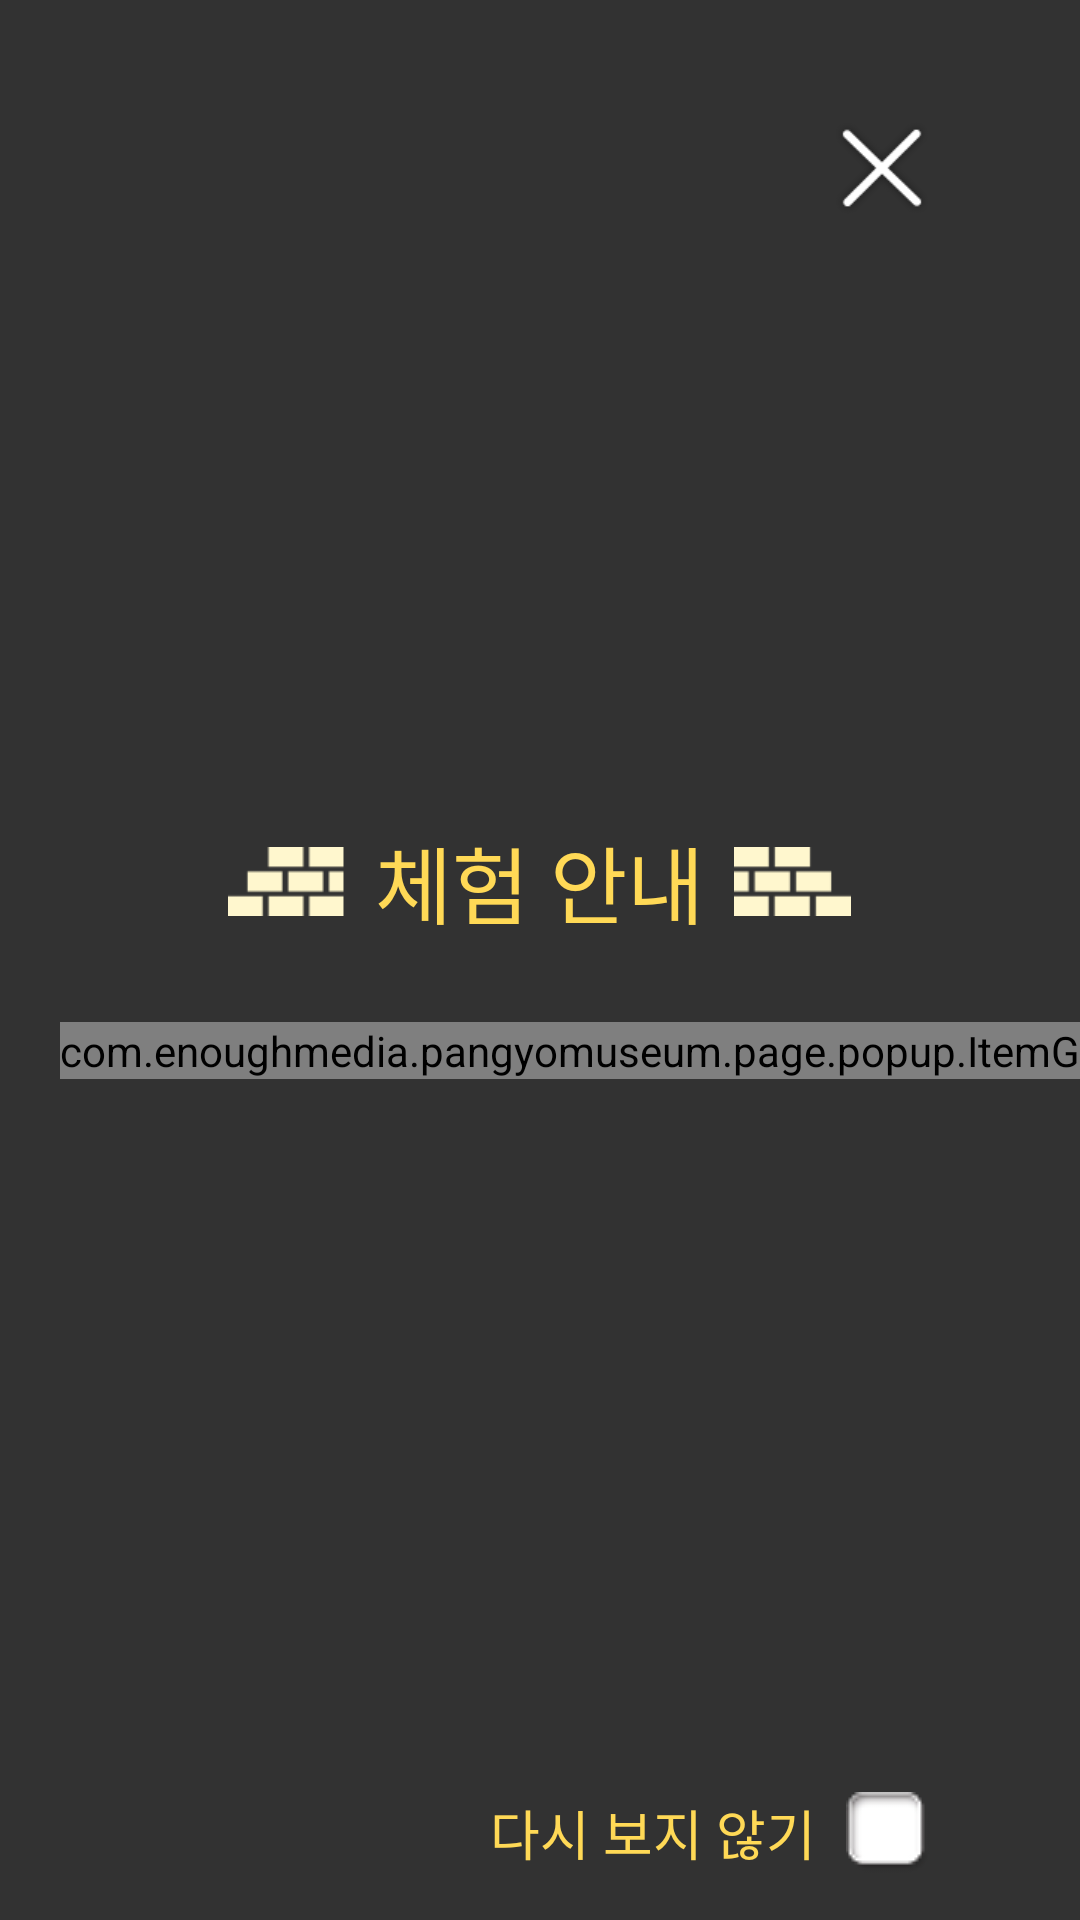

Icons on this 1080px×1920px Android screen, each with its box as (x1, y1, x2, y2):
brick left: (228, 847, 344, 916)
brick right: (734, 847, 851, 916)
close: (842, 129, 922, 207)
